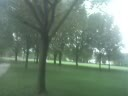window: (46, 50, 63, 87), (13, 54, 26, 84), (48, 3, 60, 27), (84, 0, 95, 25), (19, 7, 29, 32), (122, 0, 128, 18)
